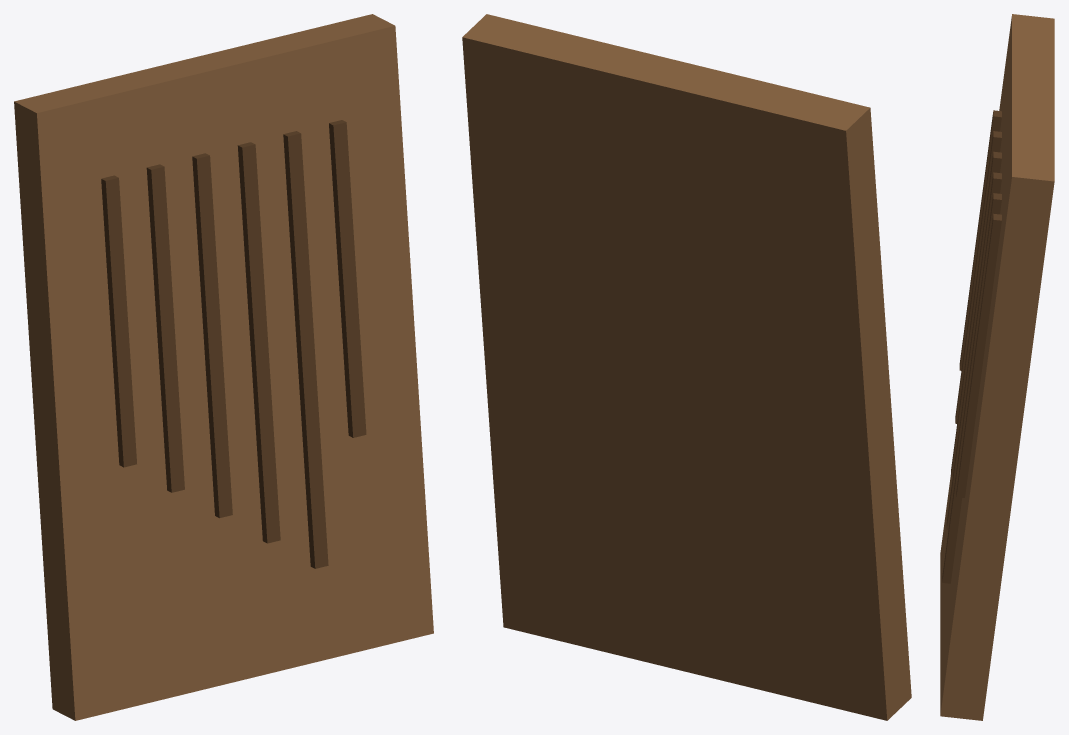
The model's file is wood-tablet-carved.glb.
3 renders of one model, left to right at view 1: azimuth 30°, elevation 25°; view 2: azimuth 150°, elevation 25°; view 3: azimuth 270°, elevation 25°, orthographic. The views are drawn at different scales.
Size of the model in its own units: 0.45 by 0.701 by 0.1334.
